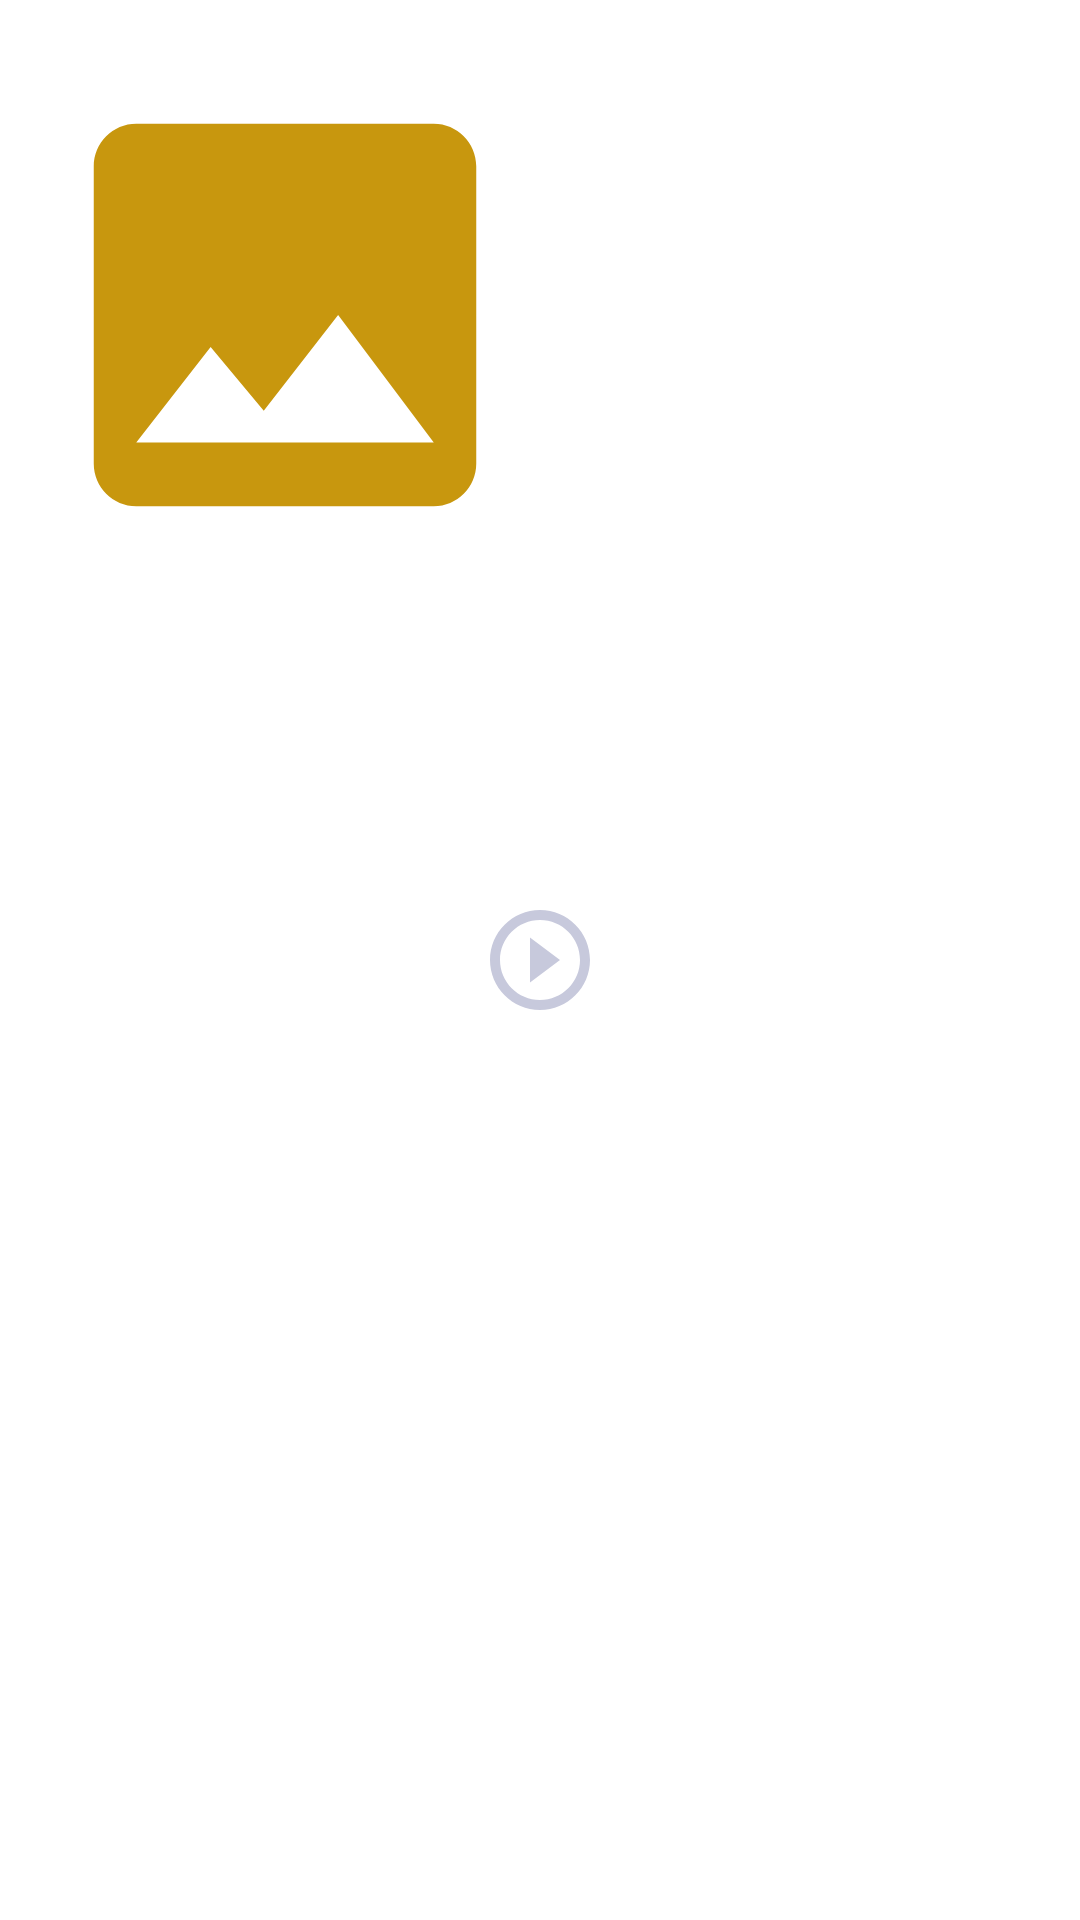

Icon bounding boxes for this 1080w x 1920h phone screenshot, format box(x1, y1, x2, y2):
play circle: box(490, 910, 590, 1010)
